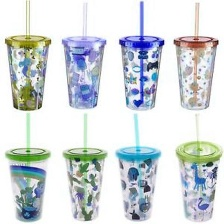drinking_straw: (76, 0, 92, 42), (130, 107, 144, 152), (133, 0, 147, 42), (22, 108, 34, 156), (79, 106, 90, 154), (22, 0, 34, 41), (191, 111, 202, 153), (192, 0, 201, 41)
glass: (114, 34, 169, 114), (112, 142, 166, 223), (172, 139, 223, 223), (169, 34, 221, 113), (58, 141, 108, 223), (1, 32, 52, 112), (59, 32, 109, 112), (3, 144, 51, 223)
